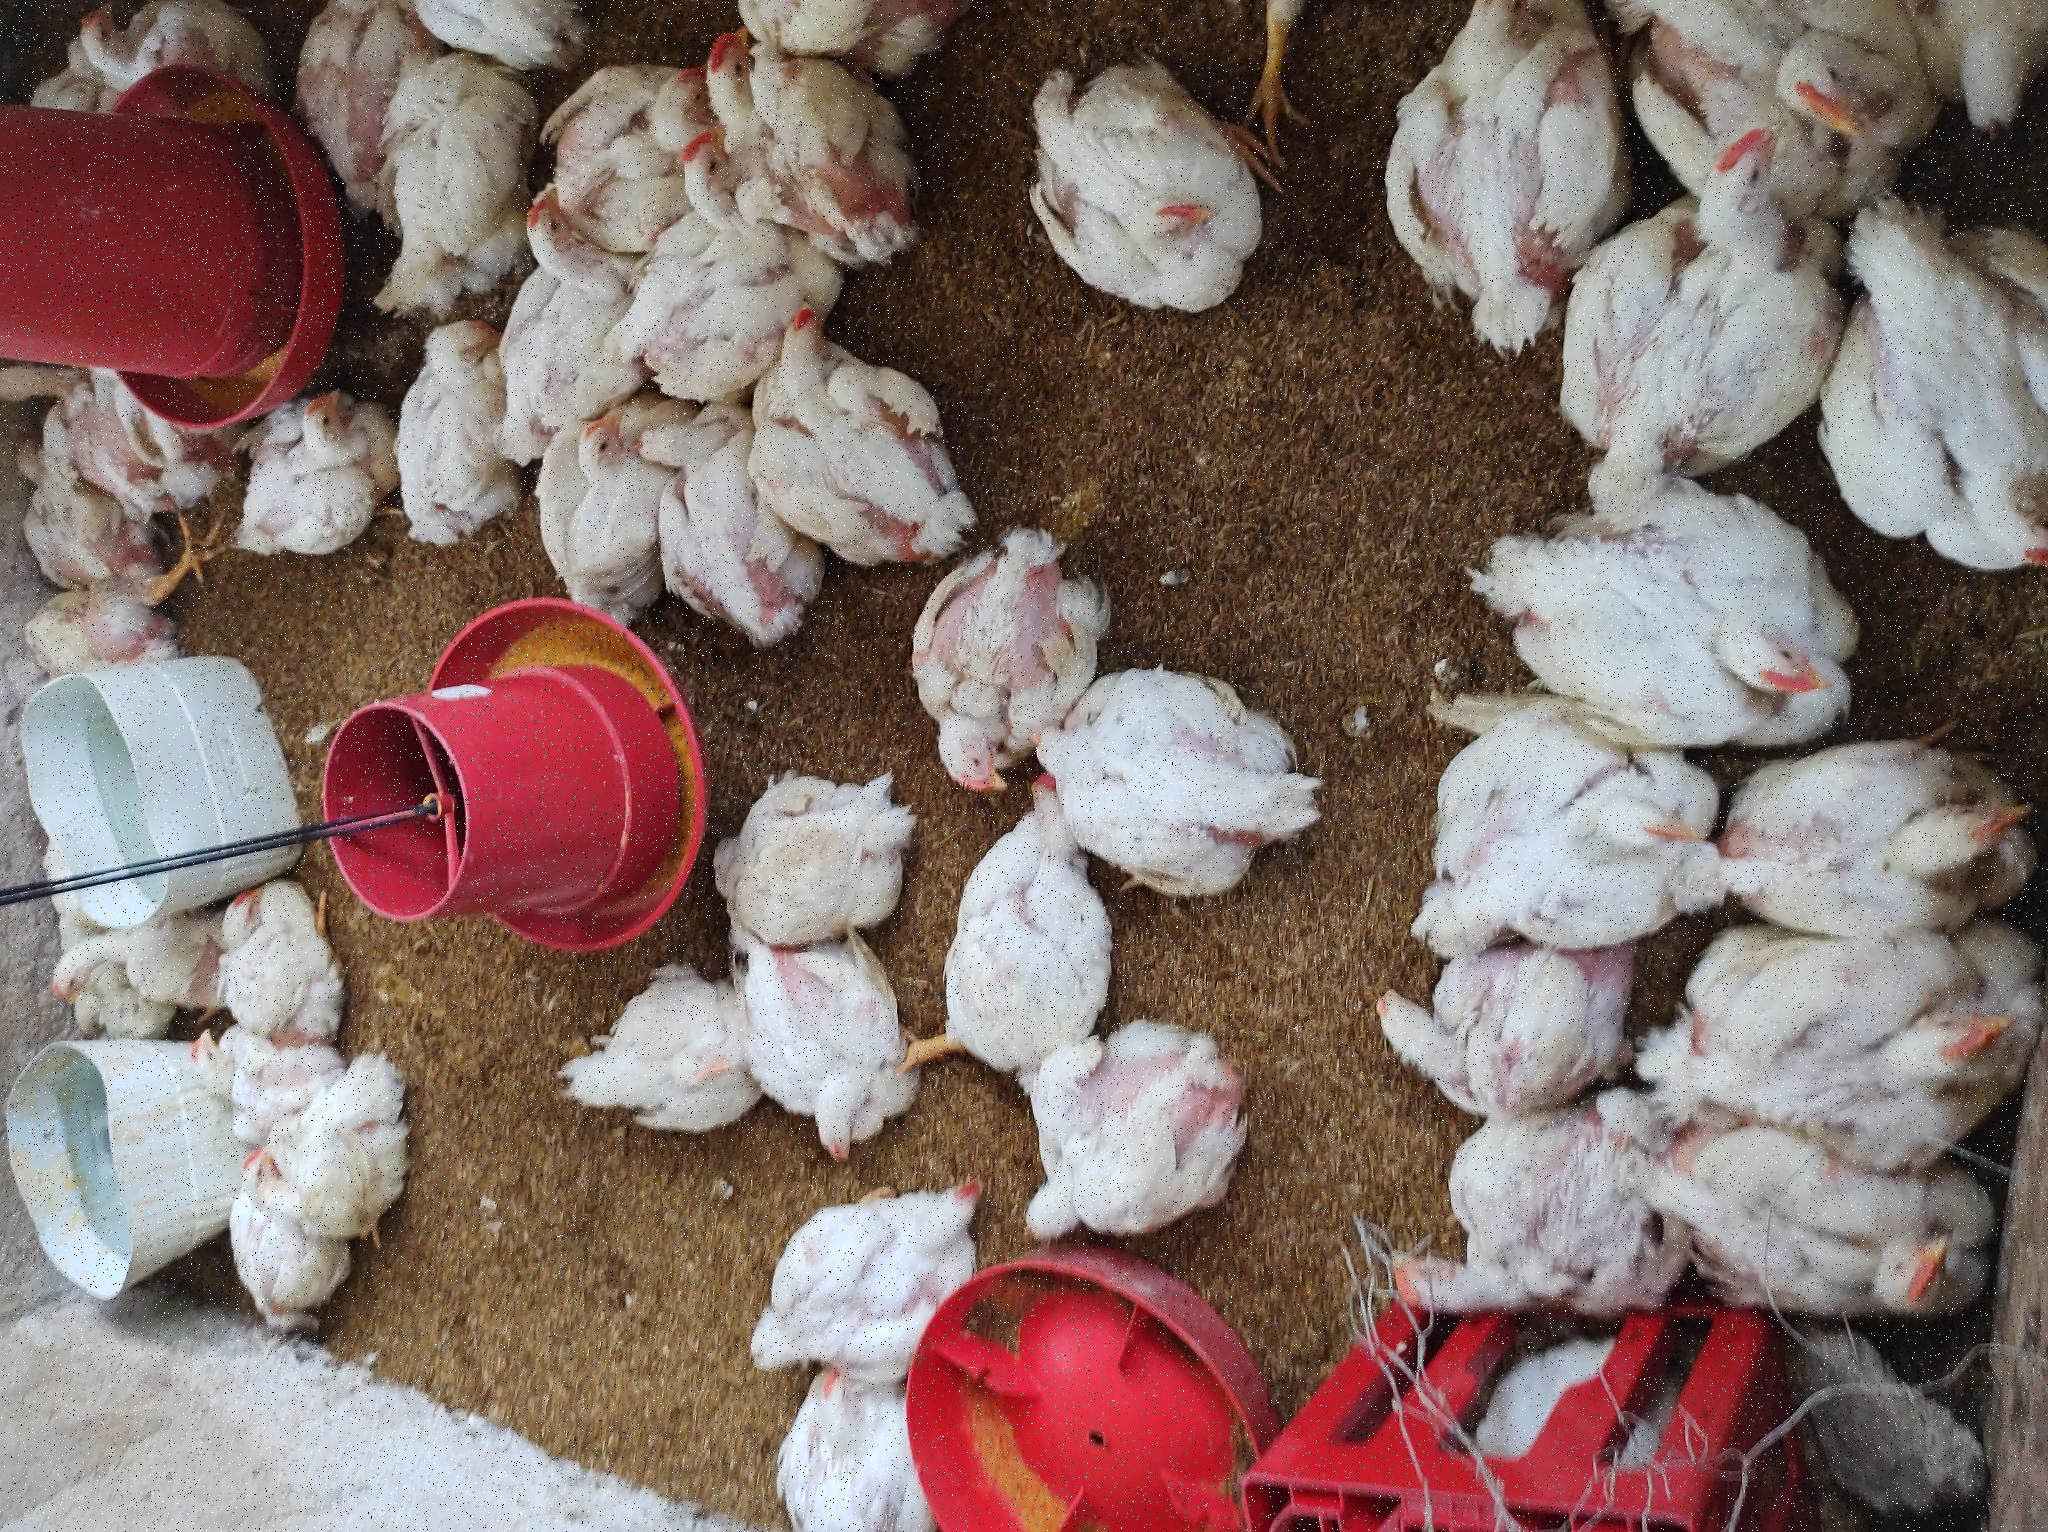Pollos: (1211, 1014, 1482, 1286), (632, 1044, 869, 1312), (746, 875, 1002, 1122), (956, 747, 1232, 966), (436, 917, 745, 1107), (278, 1003, 521, 1238), (174, 742, 373, 986), (1256, 1357, 1532, 1532), (1141, 634, 1392, 824), (364, 732, 590, 925), (171, 1365, 430, 1532), (594, 697, 763, 937), (417, 1355, 610, 1532), (1276, 365, 1470, 541), (388, 549, 568, 737), (959, 389, 1224, 515), (882, 647, 1121, 777), (1134, 476, 1329, 629), (574, 1402, 801, 1532), (2, 752, 174, 919), (936, 515, 1125, 652), (977, 232, 1141, 380), (1379, 283, 1533, 420), (851, 10, 944, 195), (1355, 618, 1474, 708), (1454, 60, 1533, 185), (1404, 689, 1507, 782), (582, 198, 661, 274), (436, 185, 516, 259), (307, 230, 389, 298), (1121, 2, 1197, 72), (526, 39, 594, 114), (1014, 18, 1102, 60)
